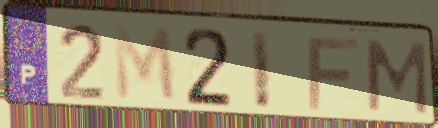2: (182, 25, 235, 111), (55, 20, 108, 103)
F: (305, 35, 362, 113)
I: (248, 28, 274, 112)
M: (111, 23, 180, 105), (364, 37, 430, 118)
